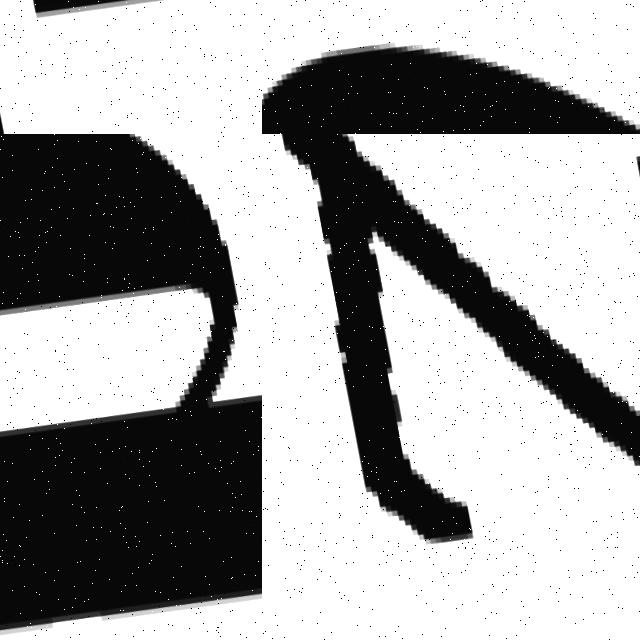D: (0, 134, 262, 640)
E: (262, 43, 640, 134)
H: (13, 0, 262, 134)
Z: (268, 134, 640, 640)
